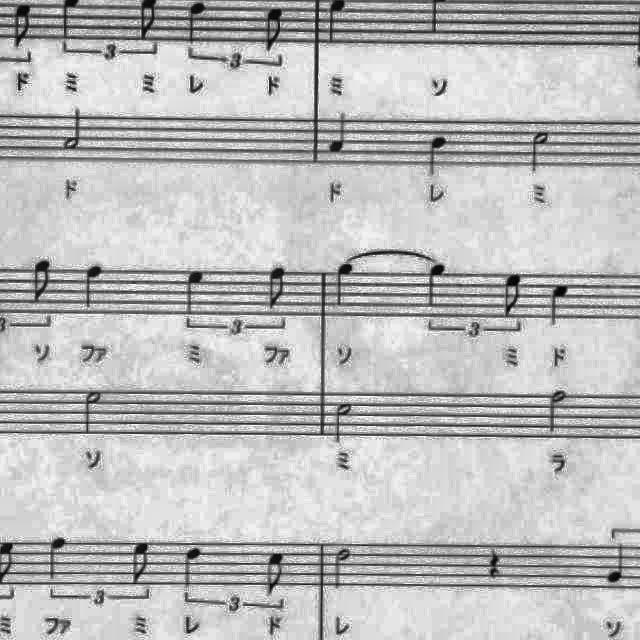Eighth-note: (496, 268, 528, 322), (126, 536, 158, 588), (262, 262, 294, 314), (24, 253, 56, 304), (261, 5, 291, 58), (7, 0, 37, 52), (261, 546, 291, 598)
Half-note: (78, 385, 110, 439), (524, 126, 556, 178), (59, 104, 89, 156), (545, 385, 573, 439), (329, 397, 359, 447), (330, 543, 358, 593)
Quarter-note: (544, 277, 576, 331), (180, 265, 210, 321), (79, 258, 109, 314), (176, 540, 207, 594), (330, 260, 362, 312), (324, 109, 356, 159), (600, 538, 632, 588), (43, 532, 73, 584), (321, 0, 353, 48), (423, 260, 452, 312), (183, 0, 213, 48), (423, 131, 453, 179)
Quarter-rest: (482, 541, 510, 583)
